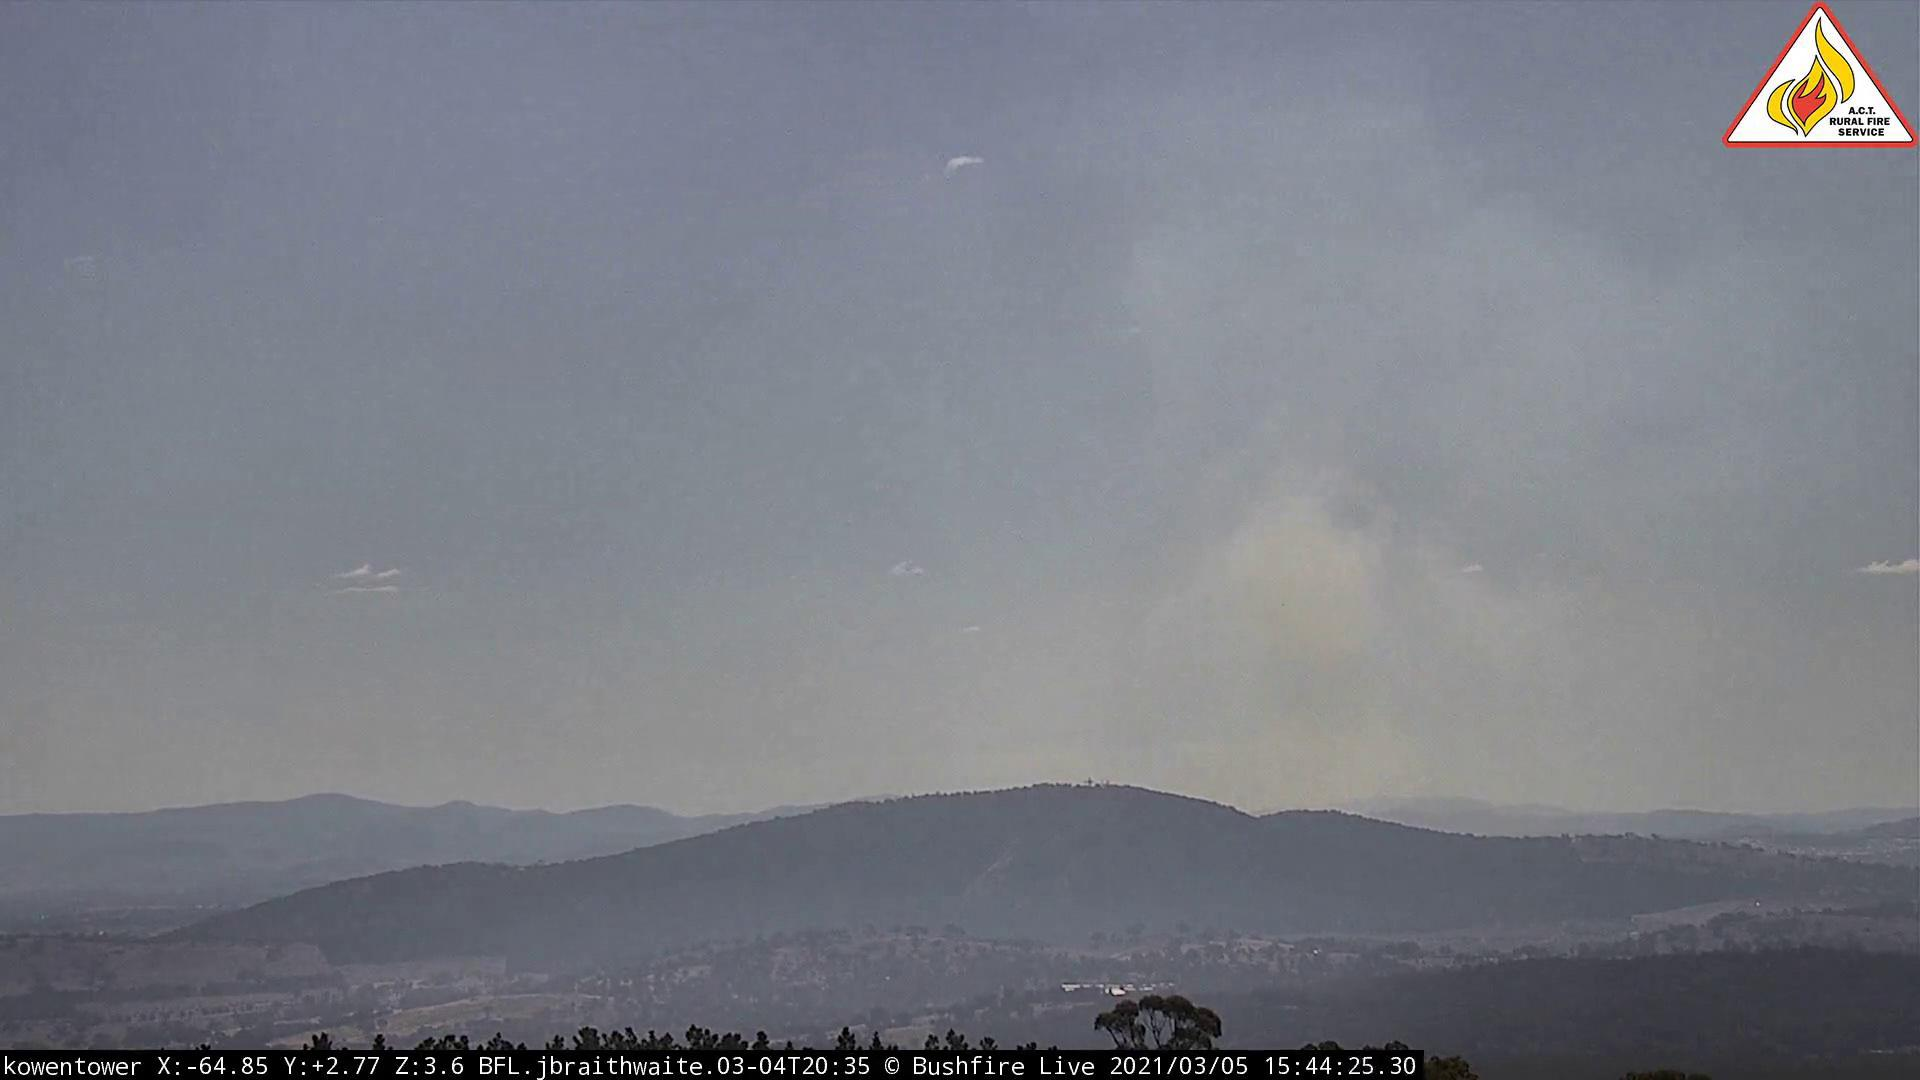Smoke: (807, 193, 1791, 839)
